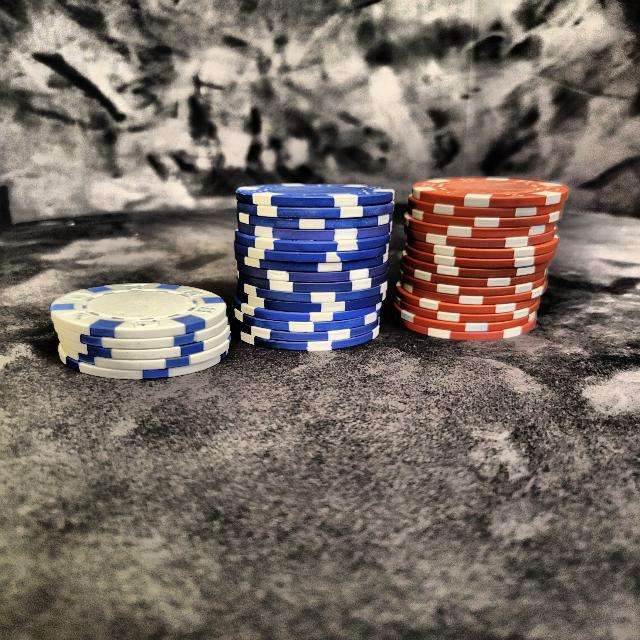Chip: (399, 147, 572, 347), (229, 165, 393, 368), (53, 259, 233, 390)
